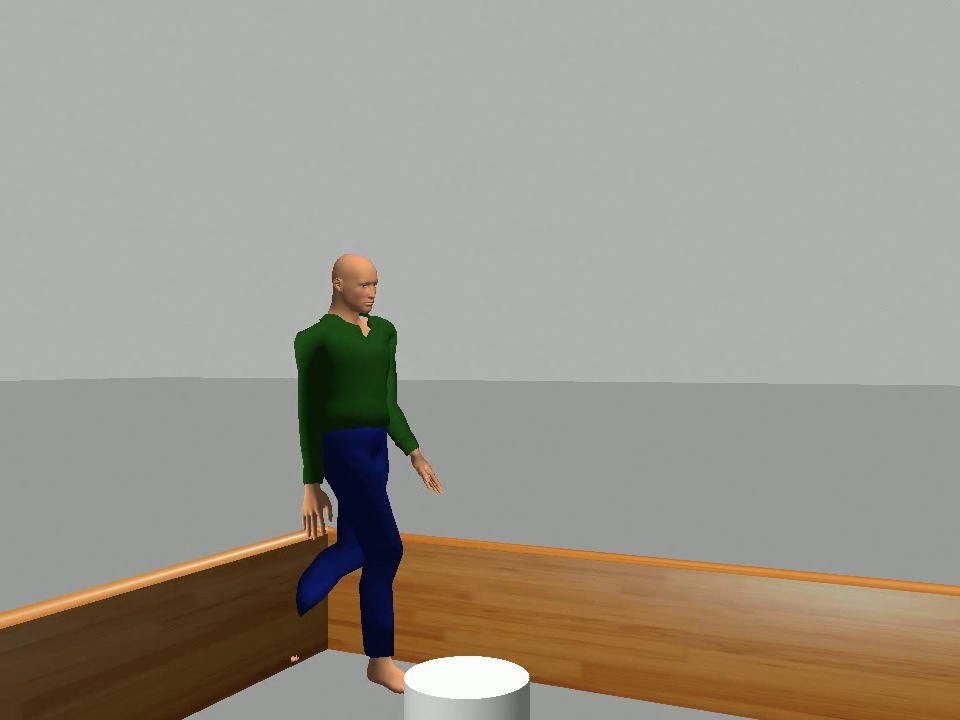person: (285, 249, 447, 702)
